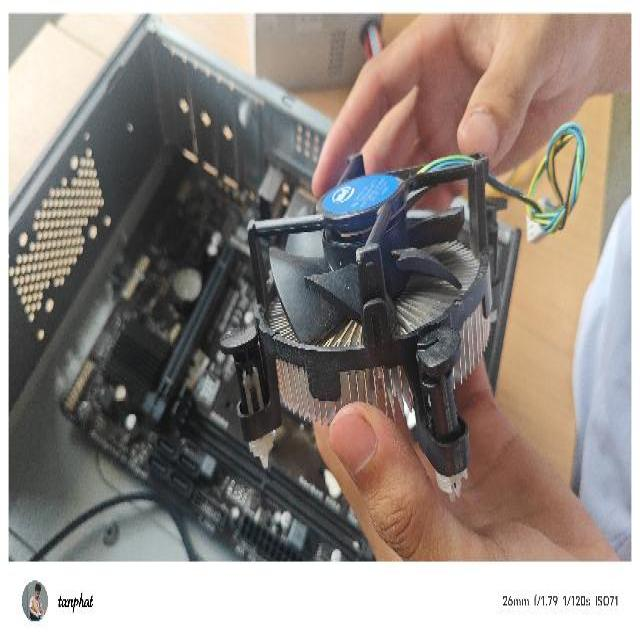CPU_Fan: (218, 136, 522, 504)
